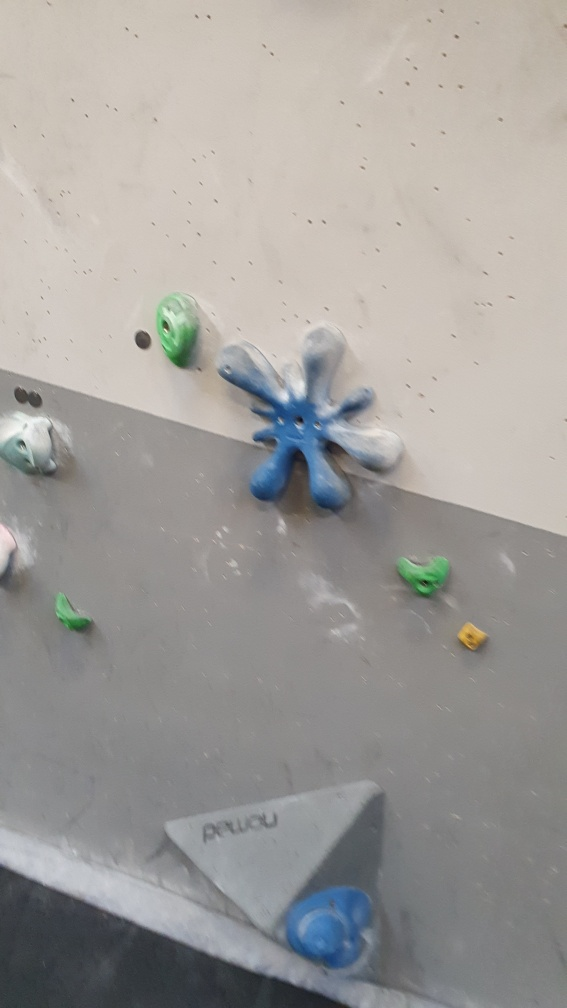Hand Start: (133, 328, 153, 350), (29, 390, 46, 411), (11, 384, 29, 403)
Jug: (153, 290, 211, 369), (1, 414, 66, 477), (394, 547, 457, 599), (52, 585, 95, 636)
Octopus Pinch: (208, 315, 405, 515)
Sloper: (283, 885, 380, 977)
